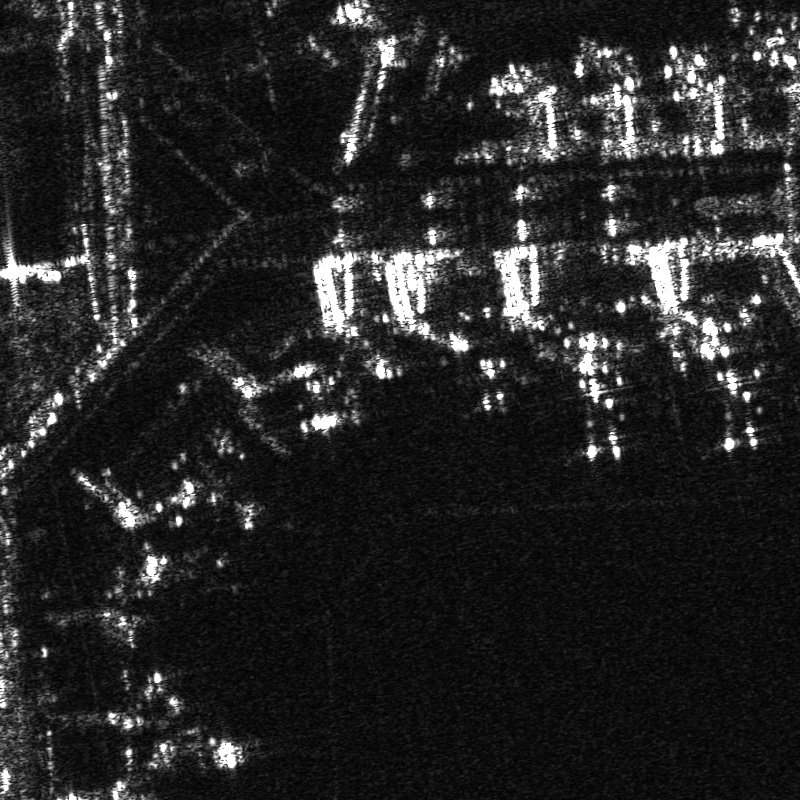A220: (452, 339, 548, 421)
Boeing787: (548, 346, 638, 466)
other: (683, 338, 771, 469)
